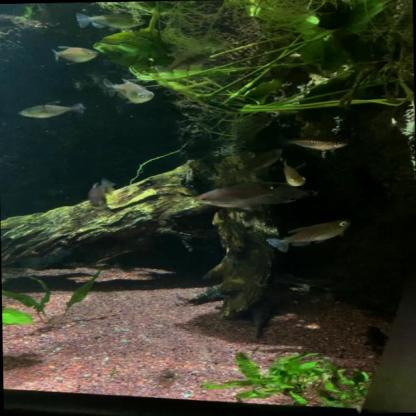fish: (191, 180, 319, 213), (263, 217, 355, 254), (99, 77, 155, 105), (74, 11, 147, 32), (18, 101, 87, 119), (286, 136, 348, 154), (356, 325, 389, 357), (50, 45, 100, 65), (87, 178, 116, 209), (282, 159, 306, 187)
